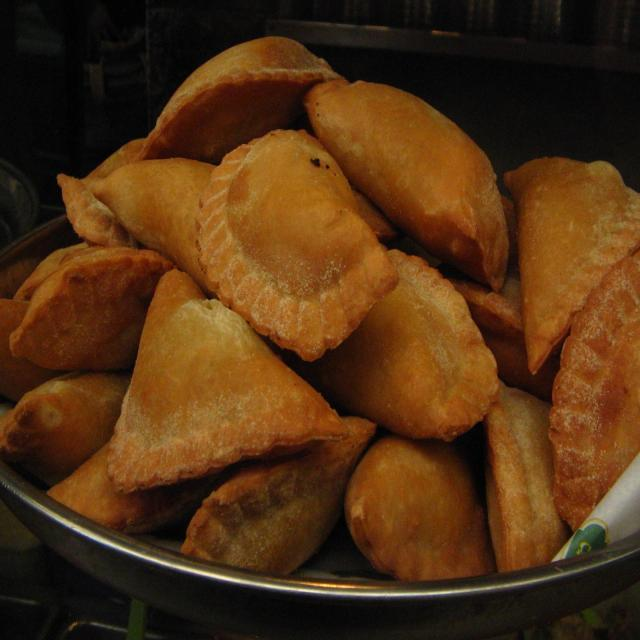sambosak: (100, 268, 370, 482), (203, 140, 396, 334), (505, 155, 640, 358)
